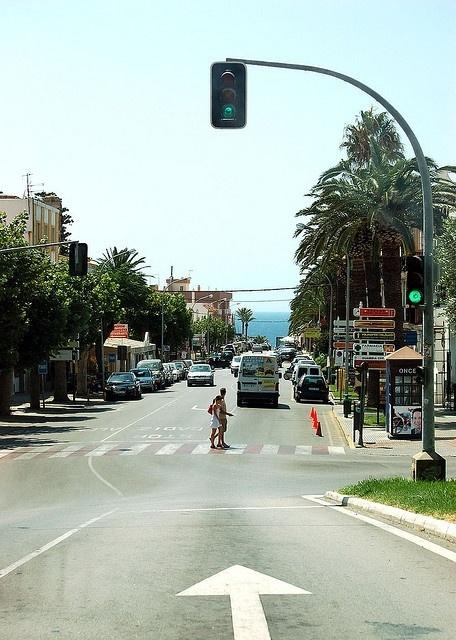car: (104, 371, 143, 402), (294, 375, 330, 404), (135, 359, 167, 391), (129, 368, 159, 393), (289, 362, 319, 385), (187, 363, 215, 387), (161, 363, 179, 383), (172, 361, 190, 380), (276, 349, 294, 366), (229, 356, 243, 377), (293, 356, 314, 365)
